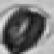correct: (0, 6, 48, 54)
